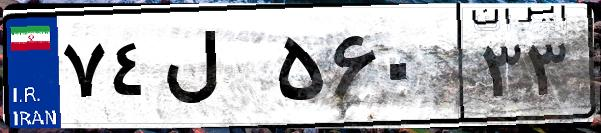0: (385, 28, 445, 110)
3: (475, 38, 525, 113), (525, 38, 570, 115)
4: (110, 28, 158, 98)
5: (270, 28, 330, 110)
6: (330, 28, 385, 110)
7: (57, 26, 110, 100)
ل: (158, 20, 270, 120)
